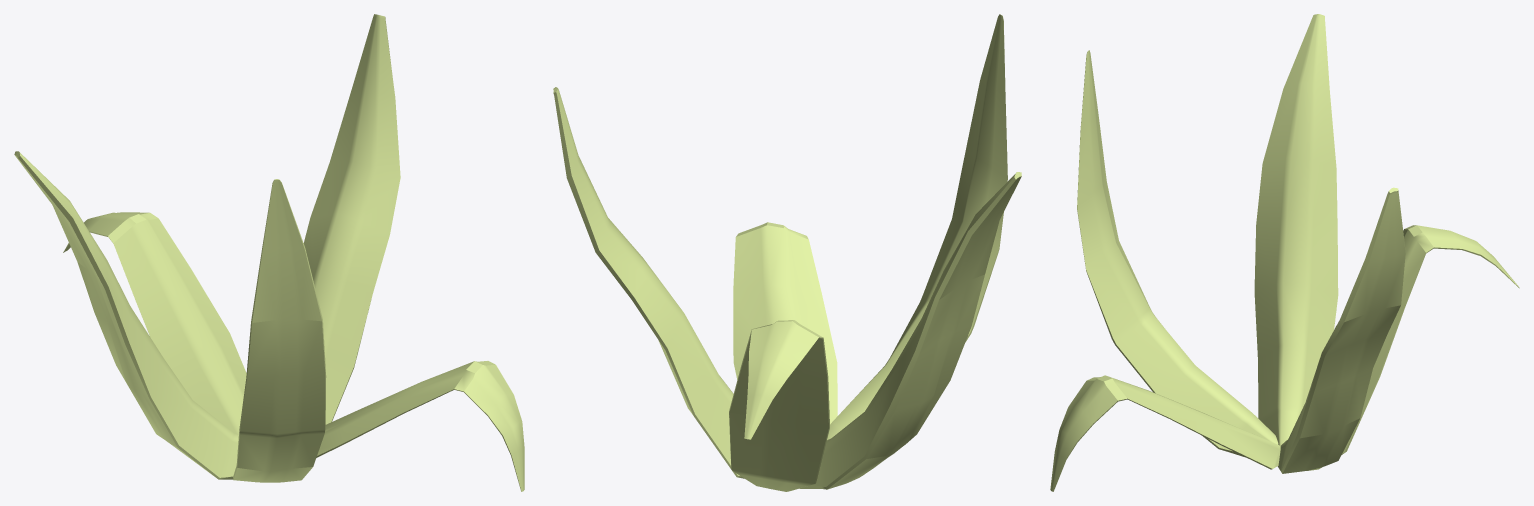
The model's file is grass_cursor.fbx.
3 views of the same model, side by side, from view 1: azimuth 30°, elevation 25°; view 2: azimuth 150°, elevation 25°; view 3: azimuth 270°, elevation 25° (orthographic). The views are drawn at different scales.
Parts seen in each view (by area): view 1: grass_cursor; view 2: grass_cursor; view 3: grass_cursor.
Part boxes in pixels (<box>): grass_cursor: <box>14,14,524,491</box>; grass_cursor: <box>553,14,1021,491</box>; grass_cursor: <box>1050,14,1519,491</box>.
Size of the model in its own units: 0.3878 by 0.408 by 0.3577.
